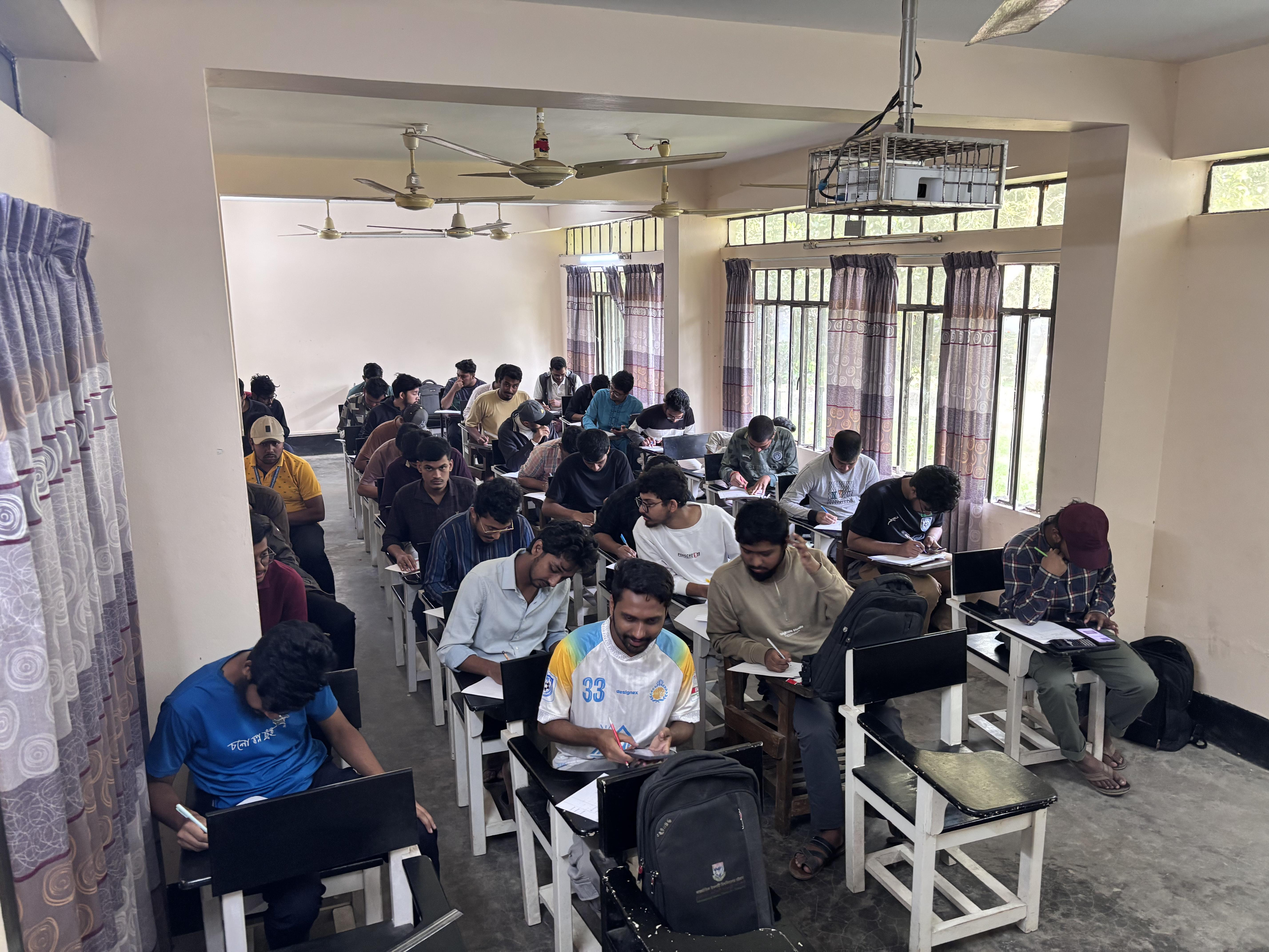copying: (719, 510, 857, 683), (618, 477, 726, 578), (244, 522, 306, 634), (487, 397, 558, 460), (378, 375, 436, 420), (252, 380, 297, 422)
no_cheating: (159, 634, 385, 896), (471, 540, 617, 676), (553, 429, 636, 544), (433, 494, 537, 584), (242, 416, 307, 529), (392, 447, 460, 553), (719, 412, 795, 504), (804, 431, 869, 526), (633, 394, 711, 459), (474, 371, 533, 429), (527, 429, 581, 486), (533, 357, 587, 412), (347, 386, 388, 421)
side_talking: (582, 377, 658, 438), (450, 359, 480, 413)
using_phone: (530, 589, 701, 810), (984, 507, 1153, 725), (853, 470, 979, 587)
